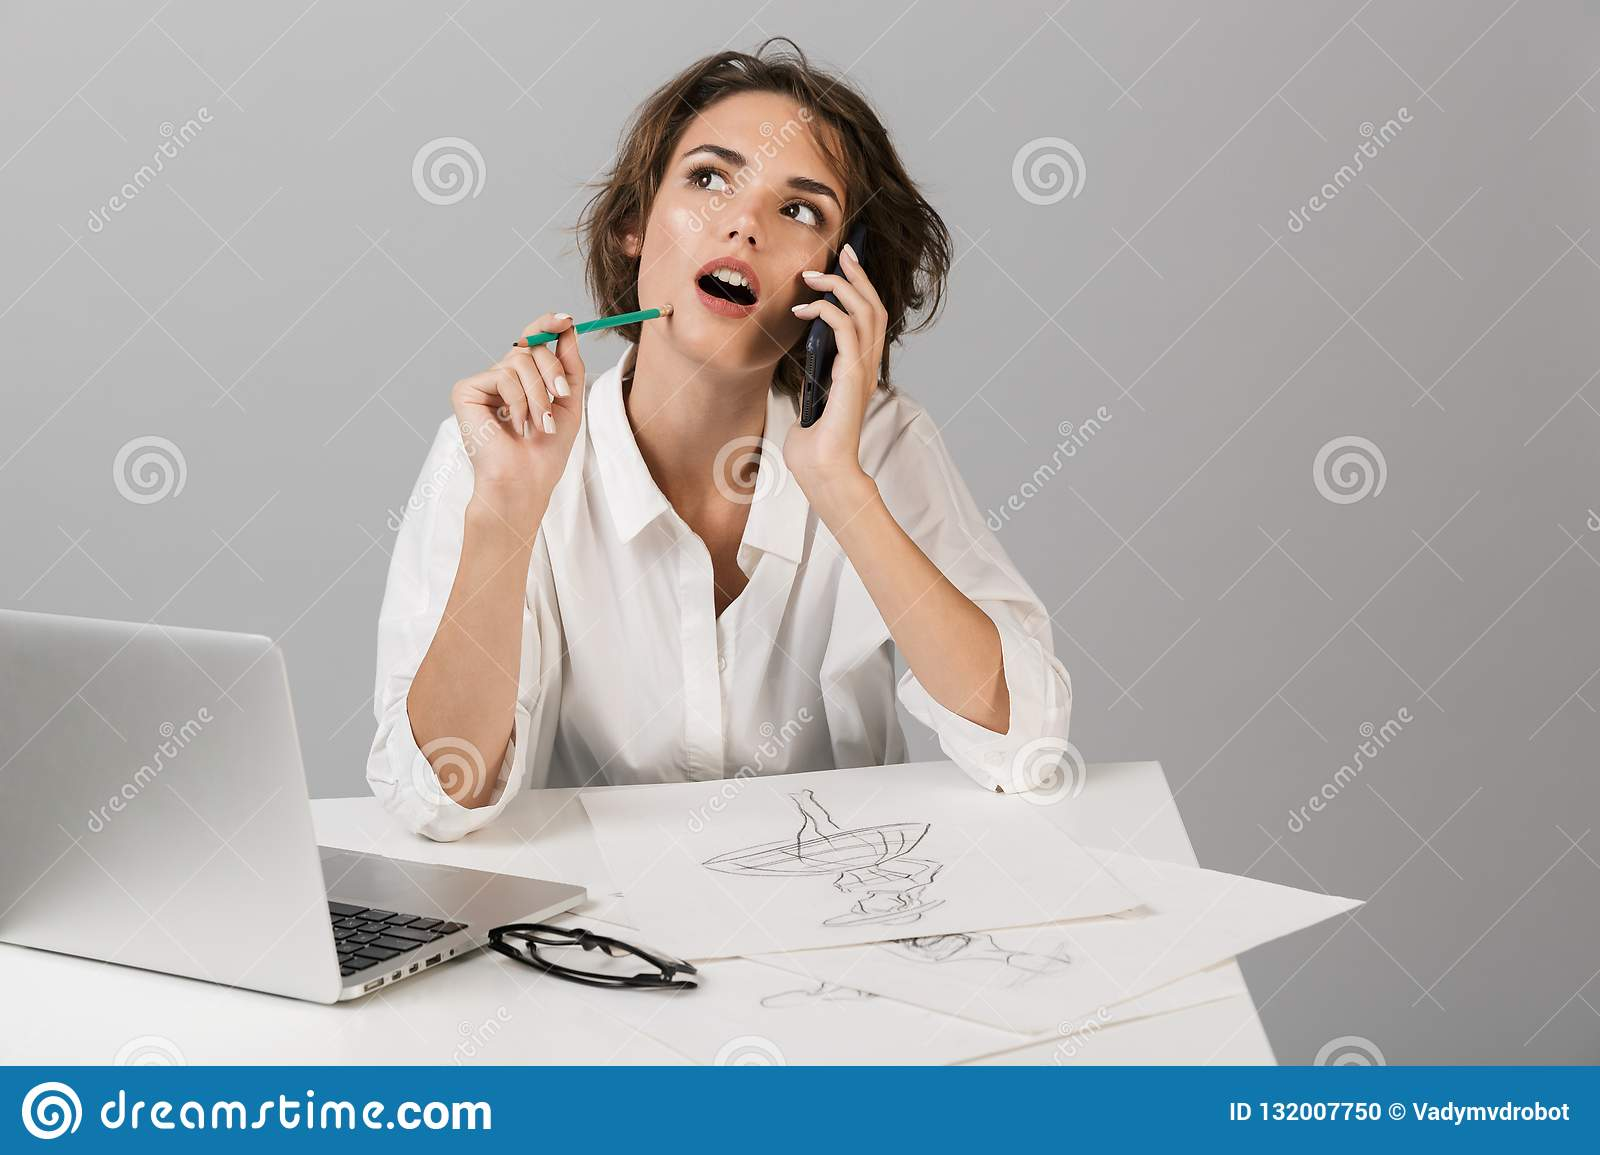phone: (786, 207, 873, 432)
talk: (652, 139, 893, 494)
